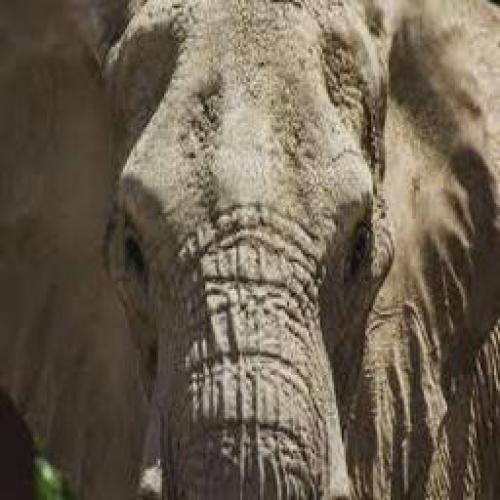african_elephant-endangered: (12, 0, 471, 500)
